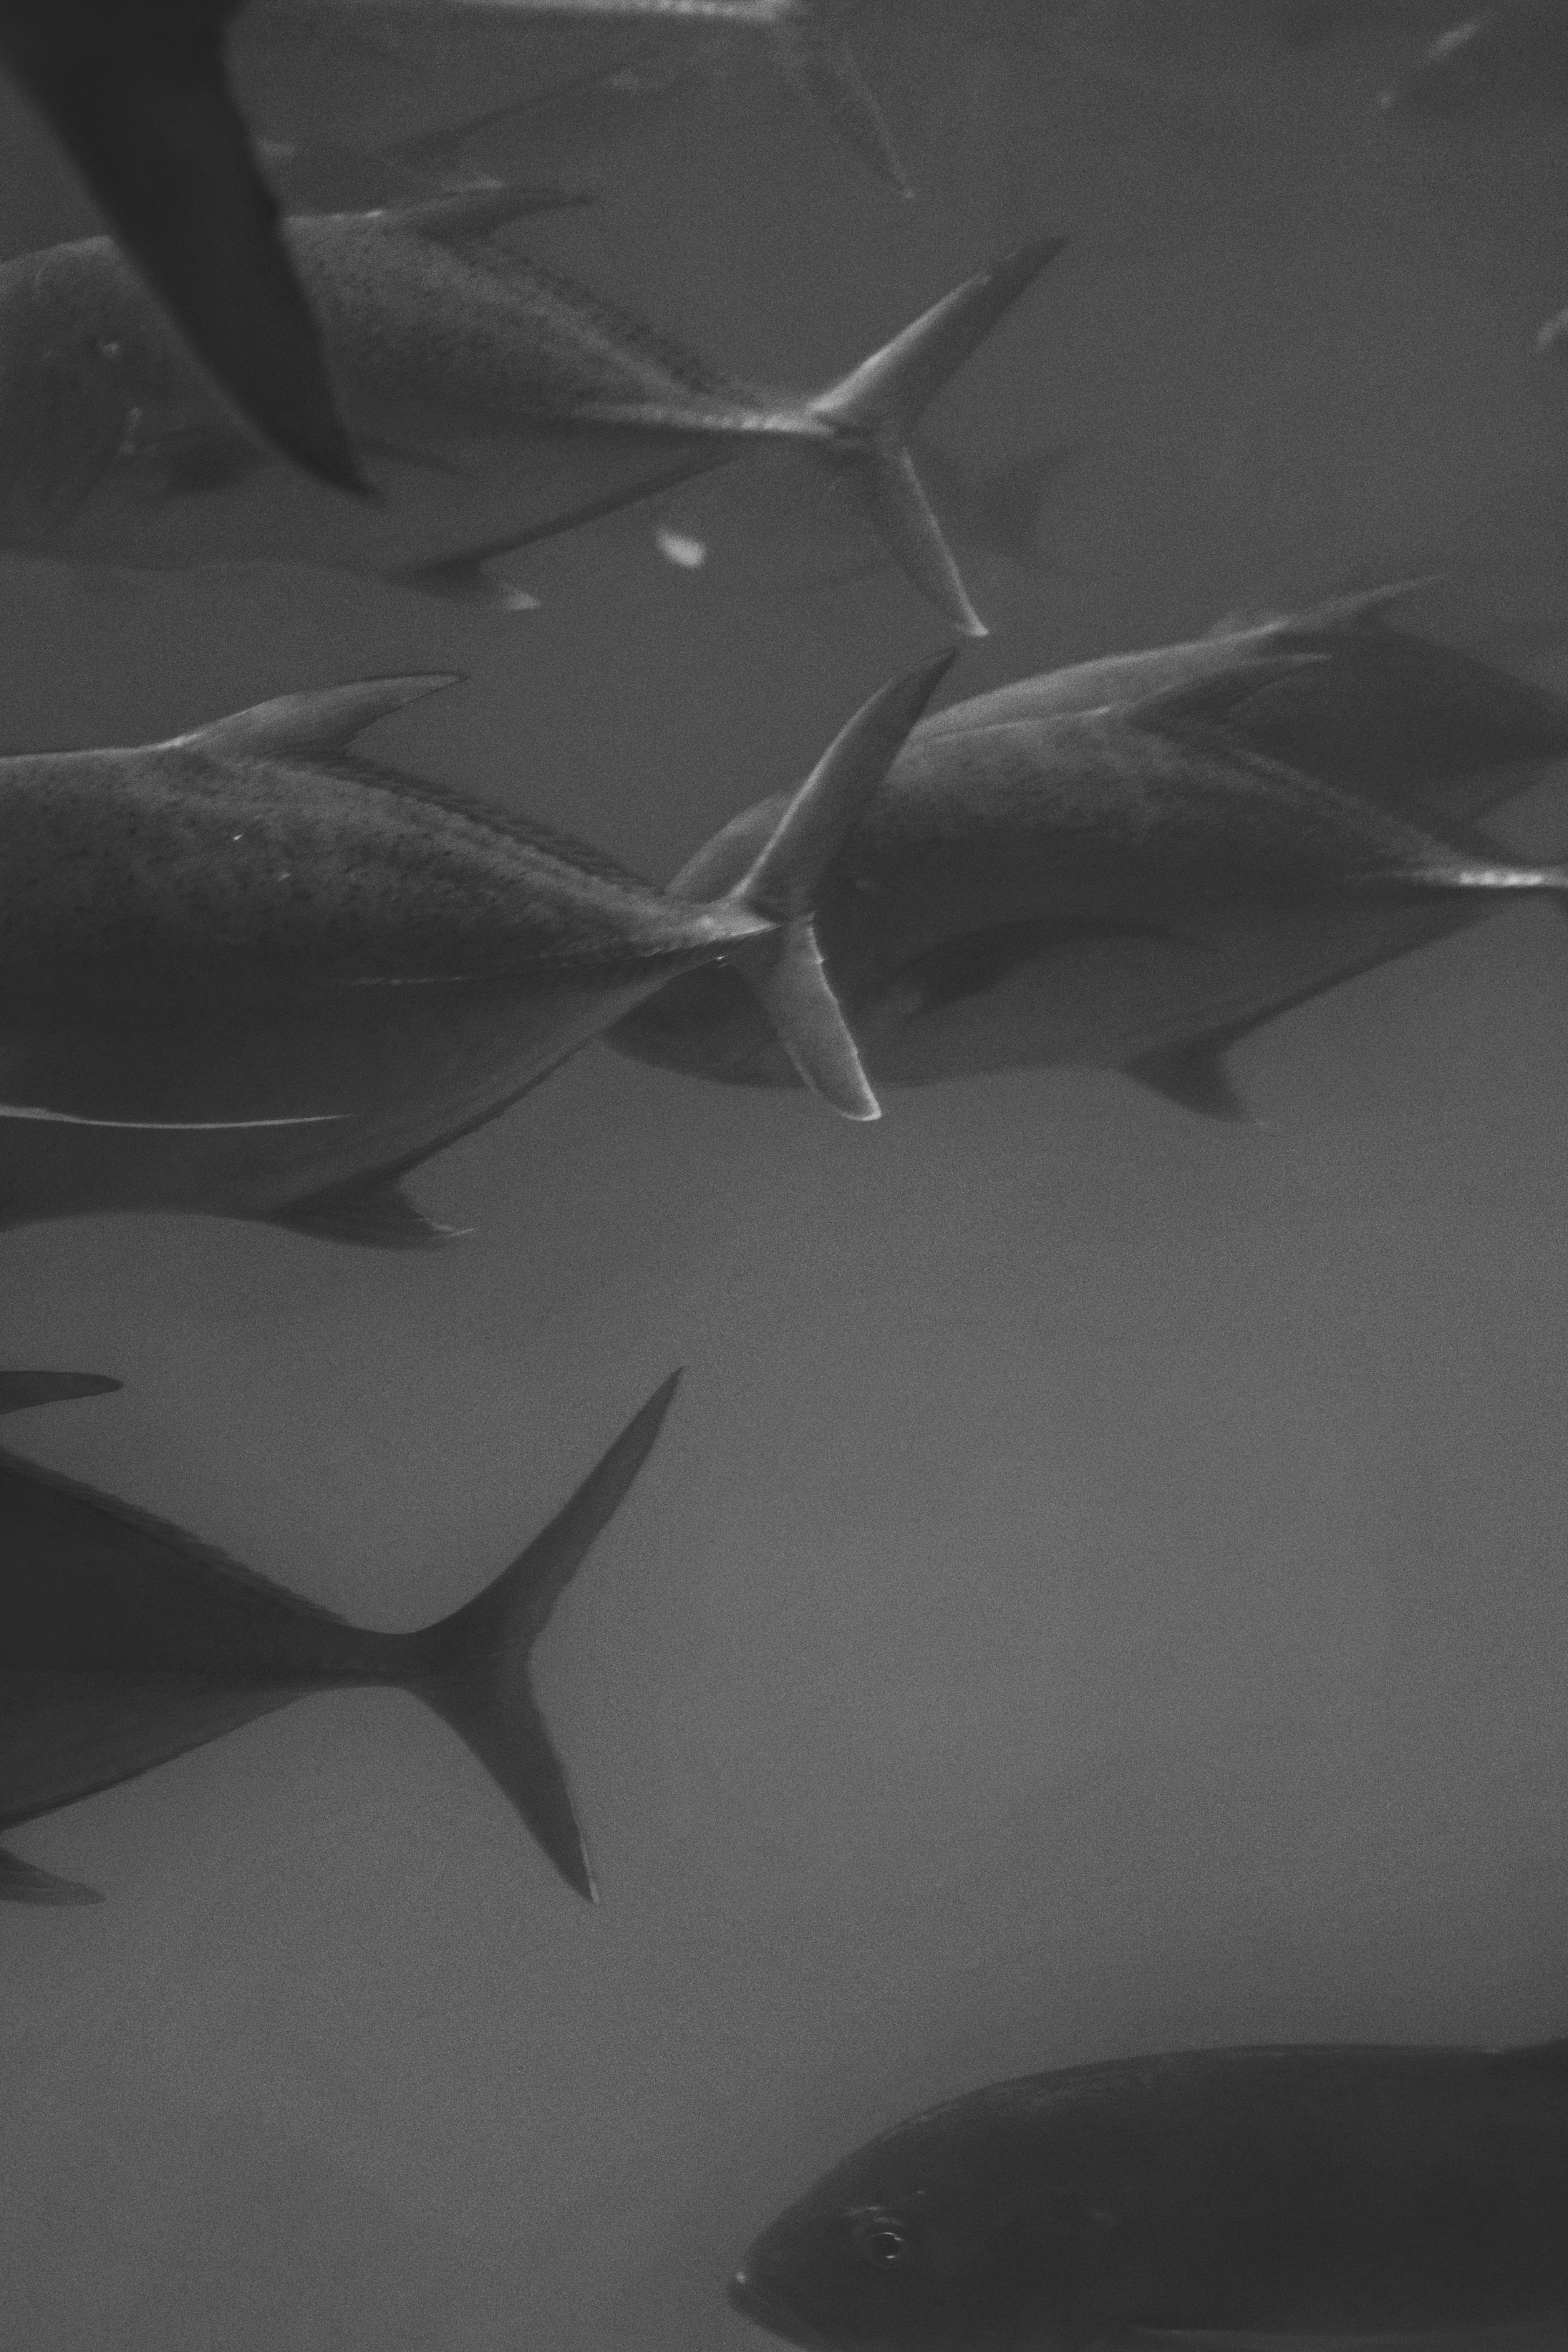fishLarge: (0, 637, 975, 1304), (593, 647, 1561, 1137), (3, 234, 1032, 639), (0, 1354, 686, 1948), (719, 2033, 1561, 2352), (1178, 567, 1554, 817)
